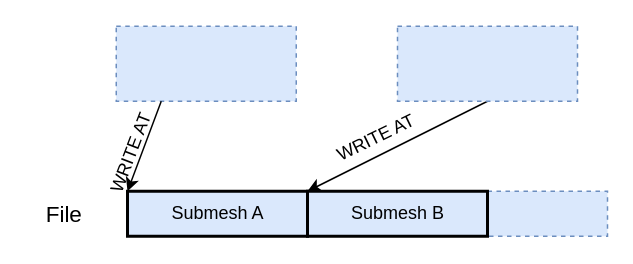
The diagram is 633 pixels wide and 264 high, and some of its shapes have lost their labels. The shapes that lost their labels are listed below. From the top down, each one's centre as x and y in pixels, then its label:
point 205,63: Submesh A Process A
point 487,63: Submesh B Process B
